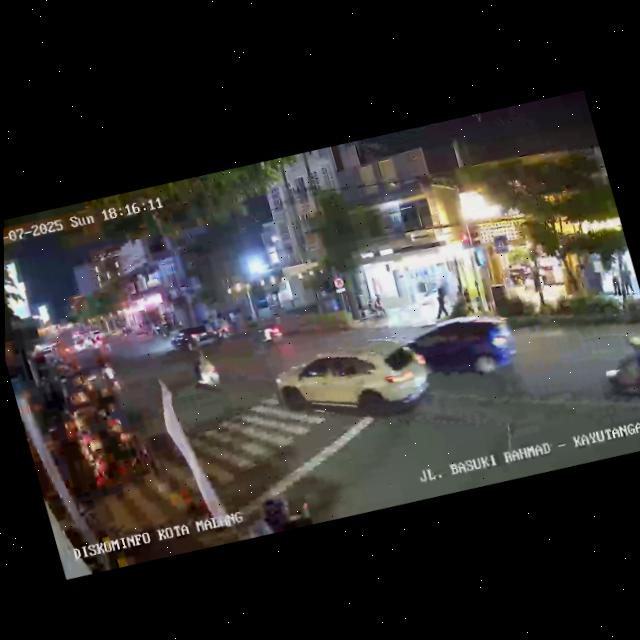car: (269, 324, 440, 447), (401, 304, 524, 399), (167, 319, 223, 358)
motorcycle: (592, 325, 640, 416), (184, 343, 225, 398), (97, 358, 124, 401), (256, 317, 287, 351)
person: (241, 486, 306, 539), (431, 284, 450, 319), (607, 263, 625, 299), (527, 270, 546, 304), (619, 264, 637, 298)
